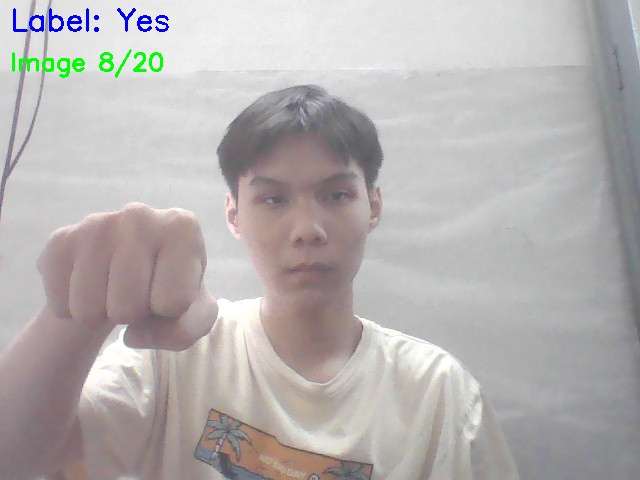Yes: (30, 196, 233, 356)
